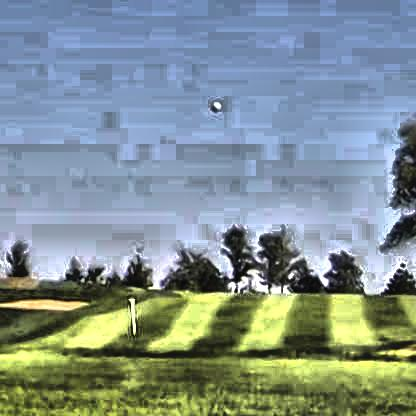golfball: (207, 98, 219, 109)
